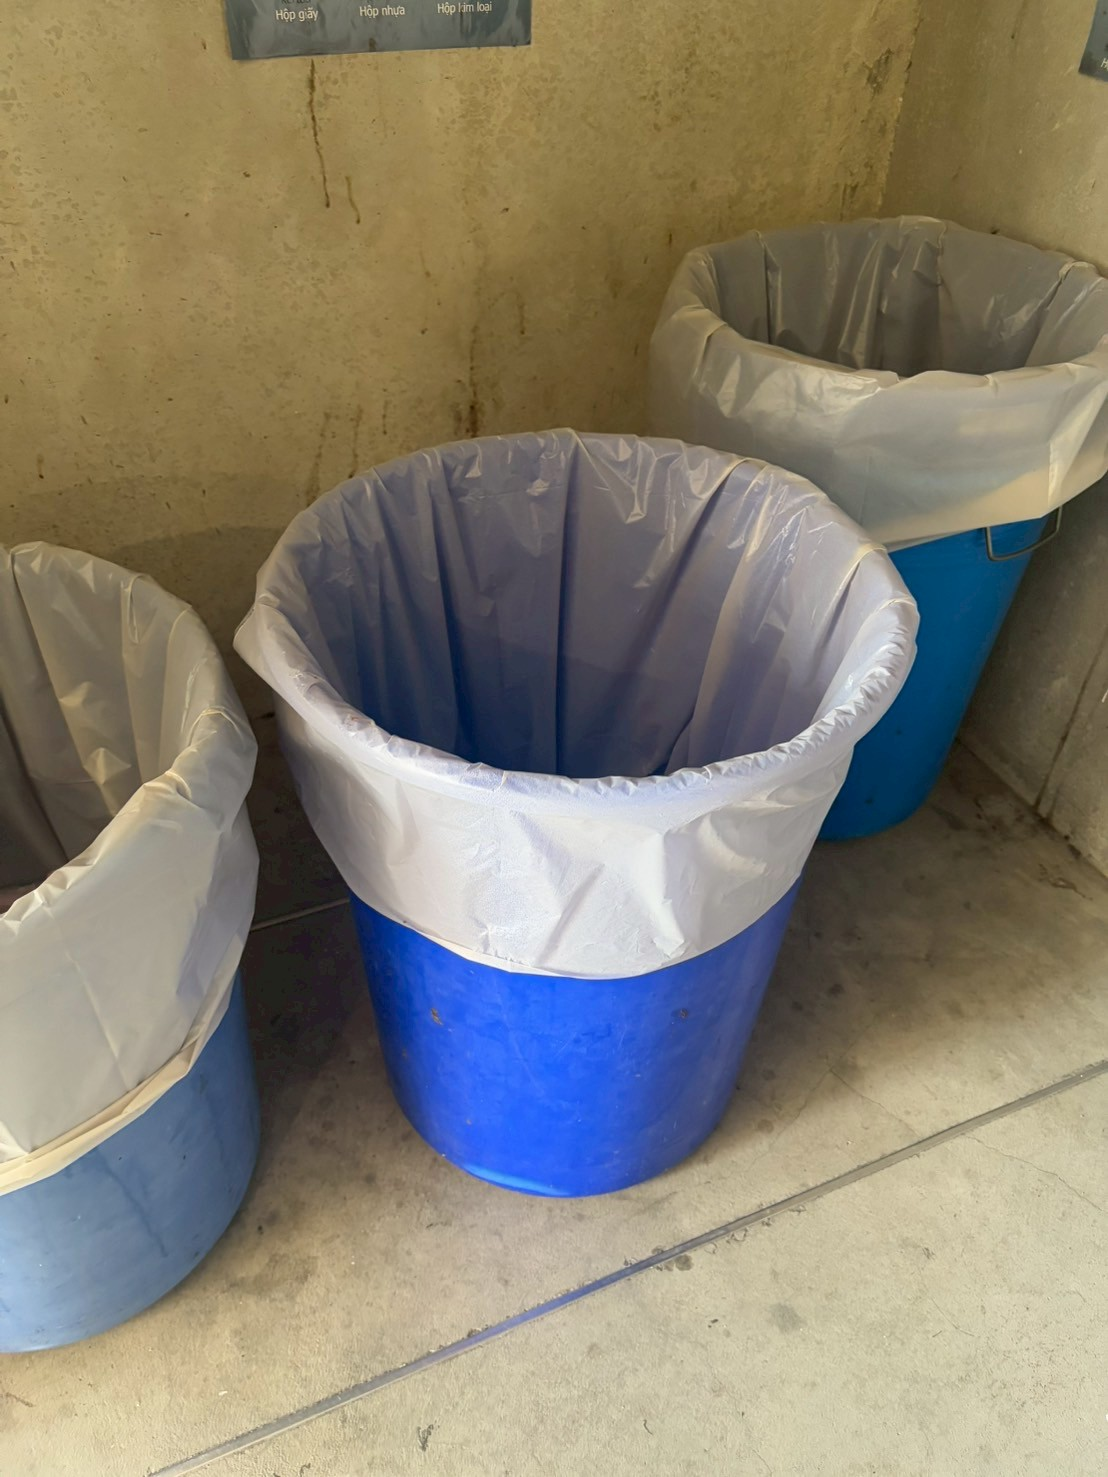normal_bin: (225, 422, 942, 1209)
